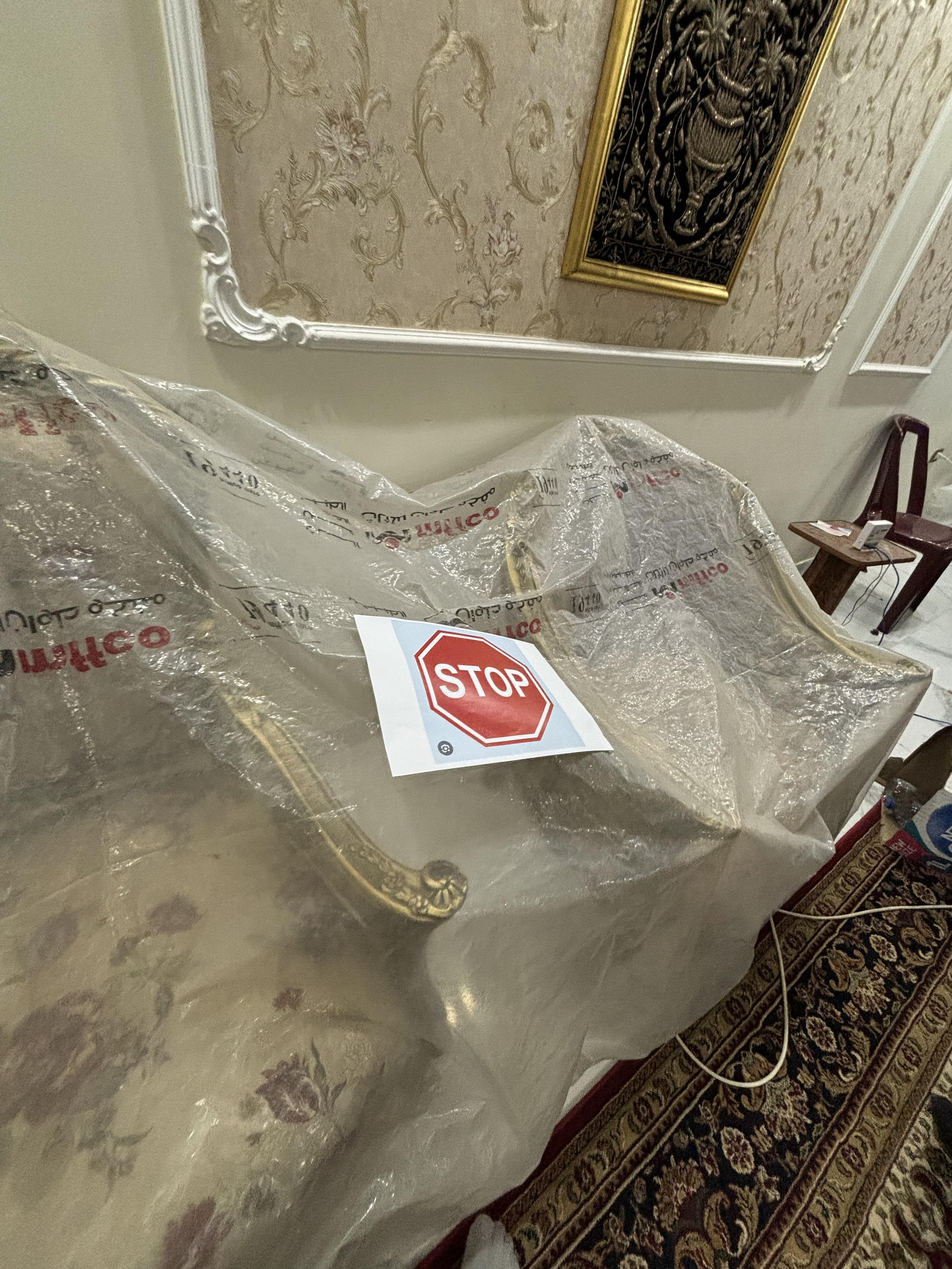Stop: (411, 623, 561, 751)
